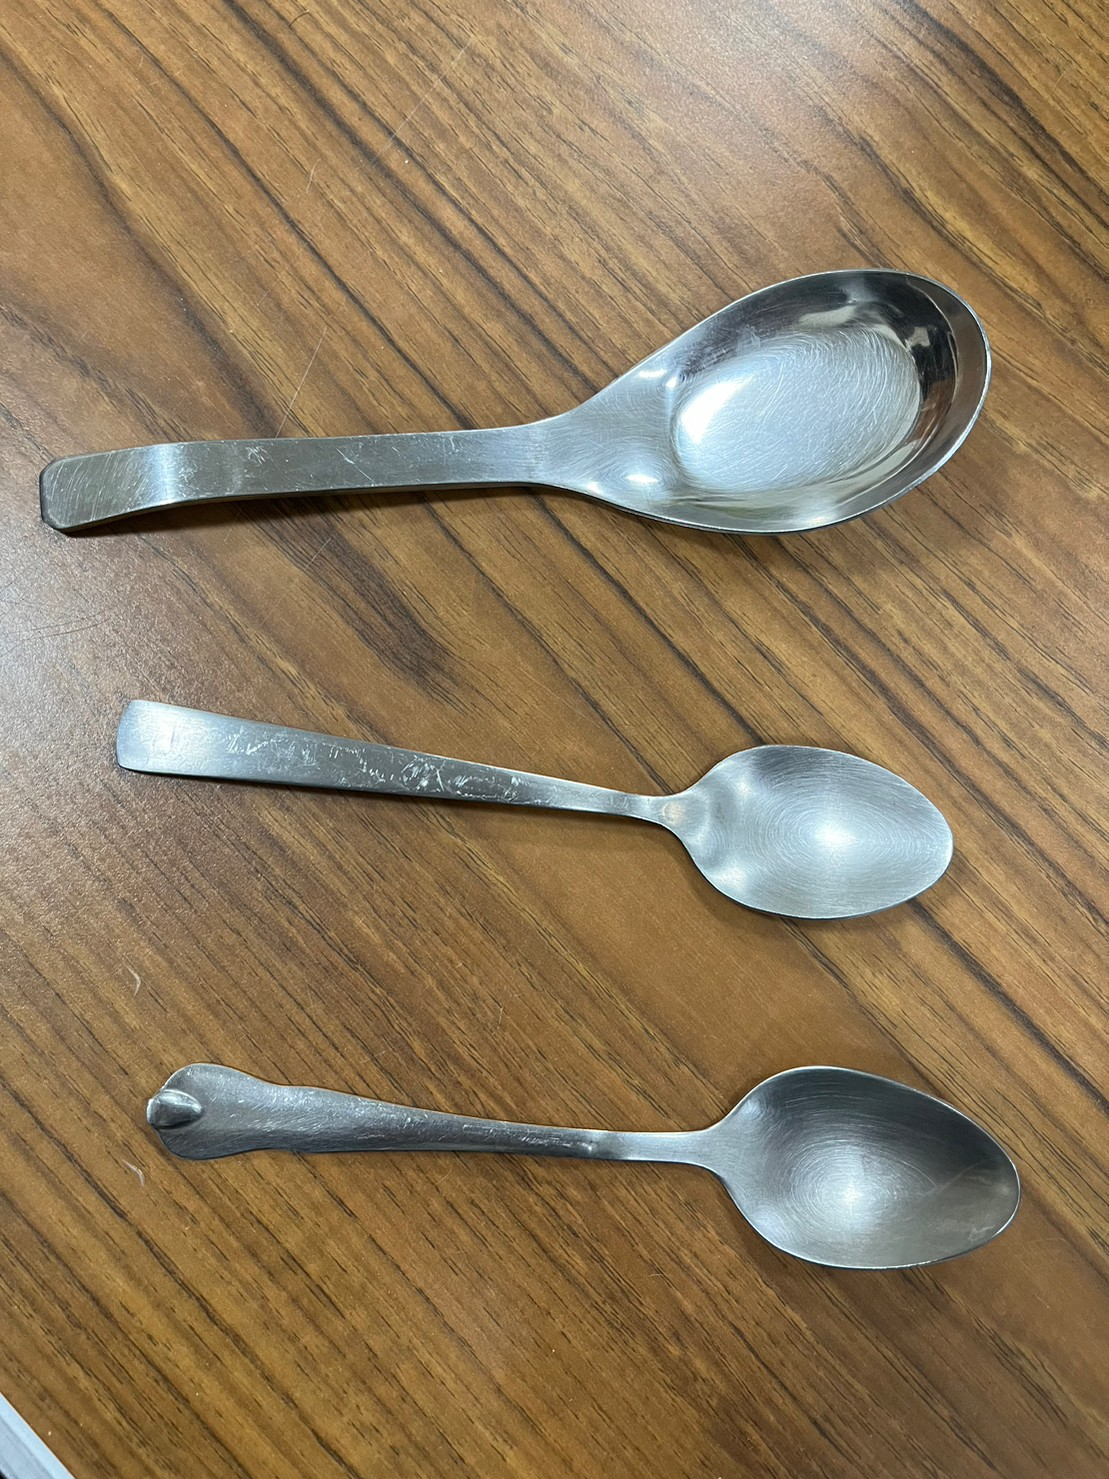spoon: (21, 256, 1012, 589), (103, 660, 972, 965), (132, 1022, 1043, 1312)
